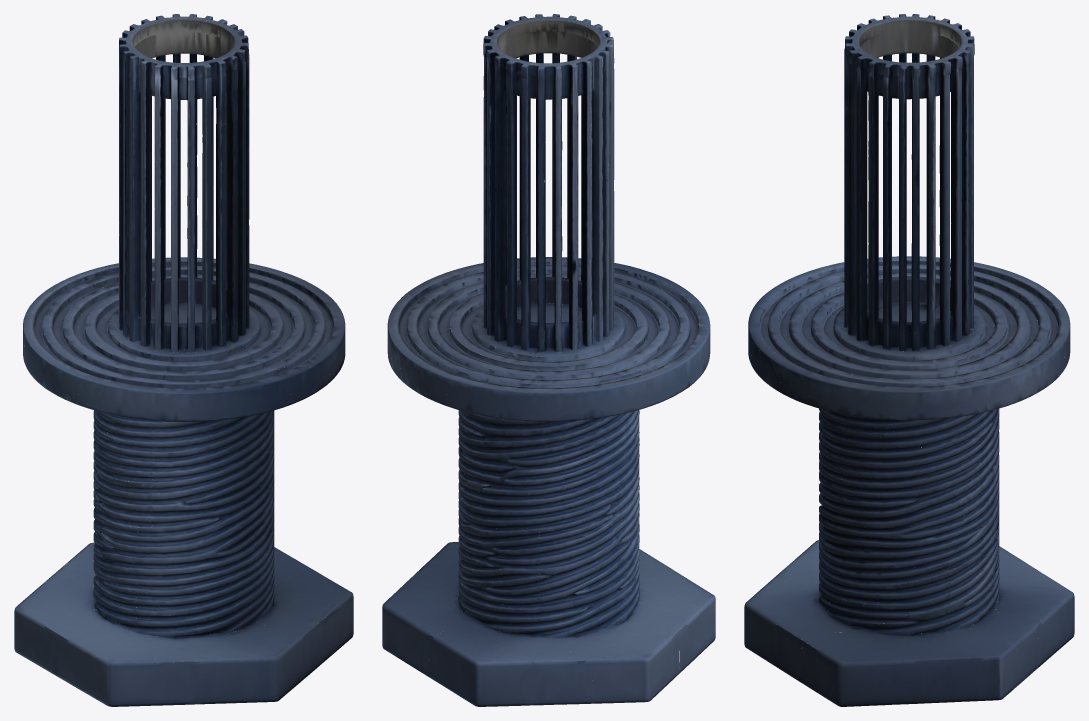
The model's file is H25-web.glb.
The picture shows the model from 3 angles, left to right: view 1: azimuth 30°, elevation 25°; view 2: azimuth 150°, elevation 25°; view 3: azimuth 270°, elevation 25°; orthographic projection.
Parts seen in each view (by area): view 1: tripo_node_b8bd7f63-1635-48c3-bfd1-9bce42197158; view 2: tripo_node_b8bd7f63-1635-48c3-bfd1-9bce42197158; view 3: tripo_node_b8bd7f63-1635-48c3-bfd1-9bce42197158.
Boxes of the visible parts, box(x1,y1,x2,y2) form: tripo_node_b8bd7f63-1635-48c3-bfd1-9bce42197158: box(14, 14, 353, 706); tripo_node_b8bd7f63-1635-48c3-bfd1-9bce42197158: box(382, 14, 715, 706); tripo_node_b8bd7f63-1635-48c3-bfd1-9bce42197158: box(744, 14, 1074, 706).
Size of the model in its own units: 0.4854 by 1 by 0.4978.
Materials: 1 (1 with a texture image).
